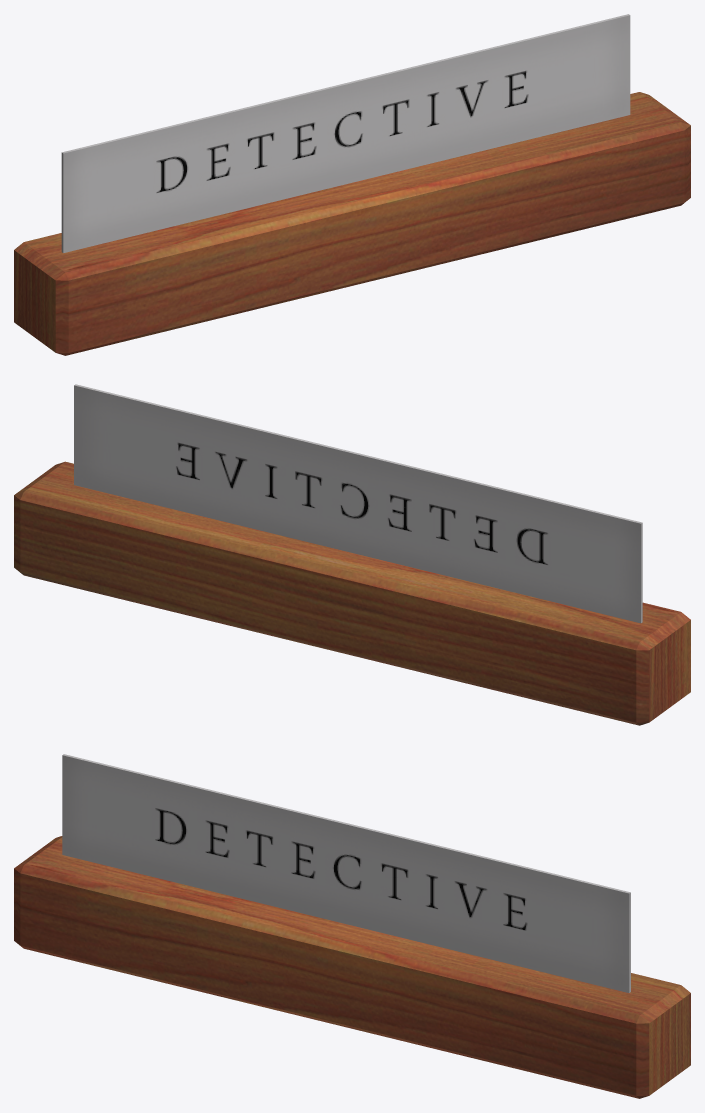
Rendered from NamePlate.FBX.
The picture shows the model from 3 angles, top to bottom: view 1: azimuth 30°, elevation 25°; view 2: azimuth 150°, elevation 25°; view 3: azimuth 330°, elevation 25°; orthographic projection.
Visible parts, largest first — view 1: Box122; view 2: Box122; view 3: Box122.
Part boxes in pixels (left/top/right/bottom): Box122: left=14, top=14, right=690, bottom=355; Box122: left=14, top=384, right=690, bottom=725; Box122: left=14, top=754, right=690, bottom=1098.
Bounding box in the file's own units: 151 × 41.49 × 19.92.
Materials: 1 (1 with a texture image).
